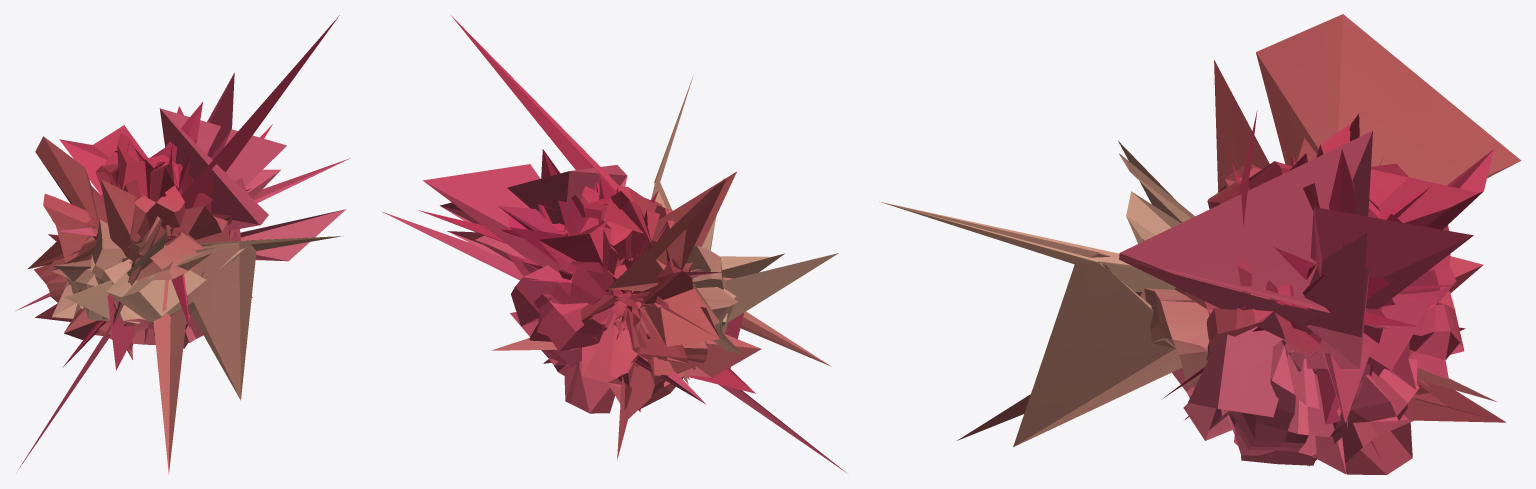
Rendered from redsmallspike.obj.
3 renders of one model, left to right at view 1: azimuth 30°, elevation 25°; view 2: azimuth 150°, elevation 25°; view 3: azimuth 270°, elevation 25°, orthographic. The views are drawn at different scales.
Visible parts, largest first — view 1: Sphere.002; view 2: Sphere.002; view 3: Sphere.002.
Boxes of the visible parts, x1,y1,x2,y2 form: Sphere.002: [16, 15, 350, 474]; Sphere.002: [381, 15, 847, 473]; Sphere.002: [879, 14, 1521, 474].
Size of the model in its own units: 135 by 120 by 118.
1 material, 1 textured.
